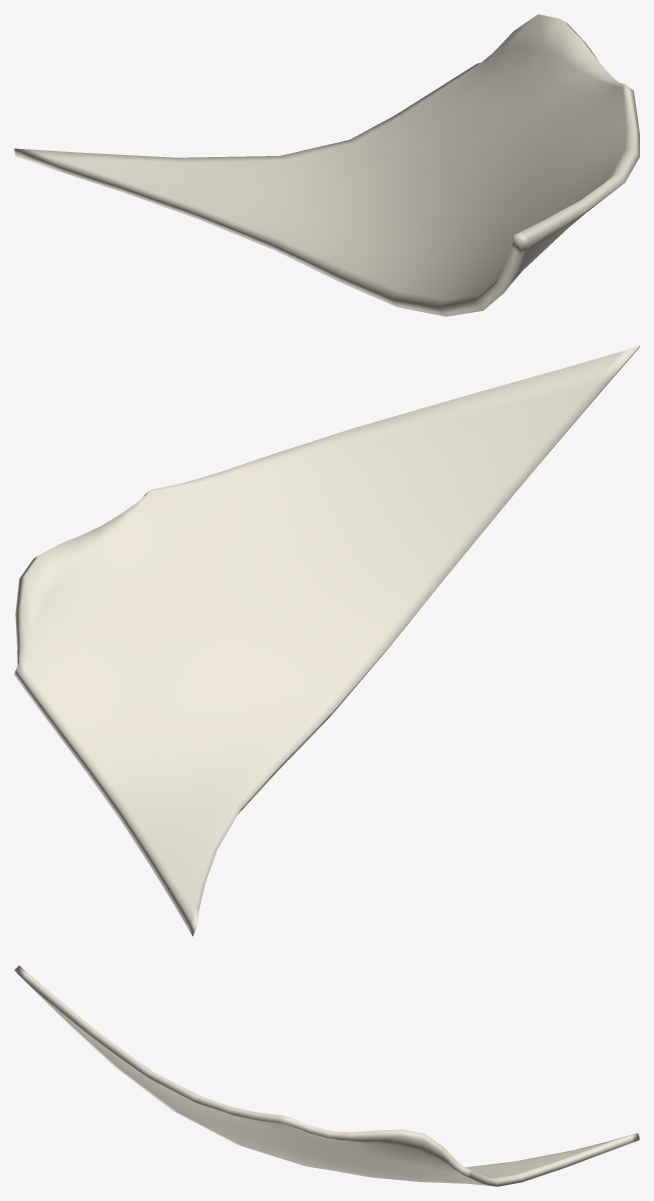
3 views of the same model, one above another, from view 1: azimuth 30°, elevation 25°; view 2: azimuth 150°, elevation 25°; view 3: azimuth 270°, elevation 25° (orthographic). The views are drawn at different scales.
Visible parts, largest first — view 1: ZA_afb6900fdf287ce5; view 2: ZA_afb6900fdf287ce5; view 3: ZA_afb6900fdf287ce5.
Boxes of the visible parts, bbox=[...] form: ZA_afb6900fdf287ce5: bbox=[14, 14, 639, 316]; ZA_afb6900fdf287ce5: bbox=[14, 345, 639, 936]; ZA_afb6900fdf287ce5: bbox=[14, 965, 639, 1186].
Bounding box in the file's own units: 0.018 × 0.0136 × 0.0424.
